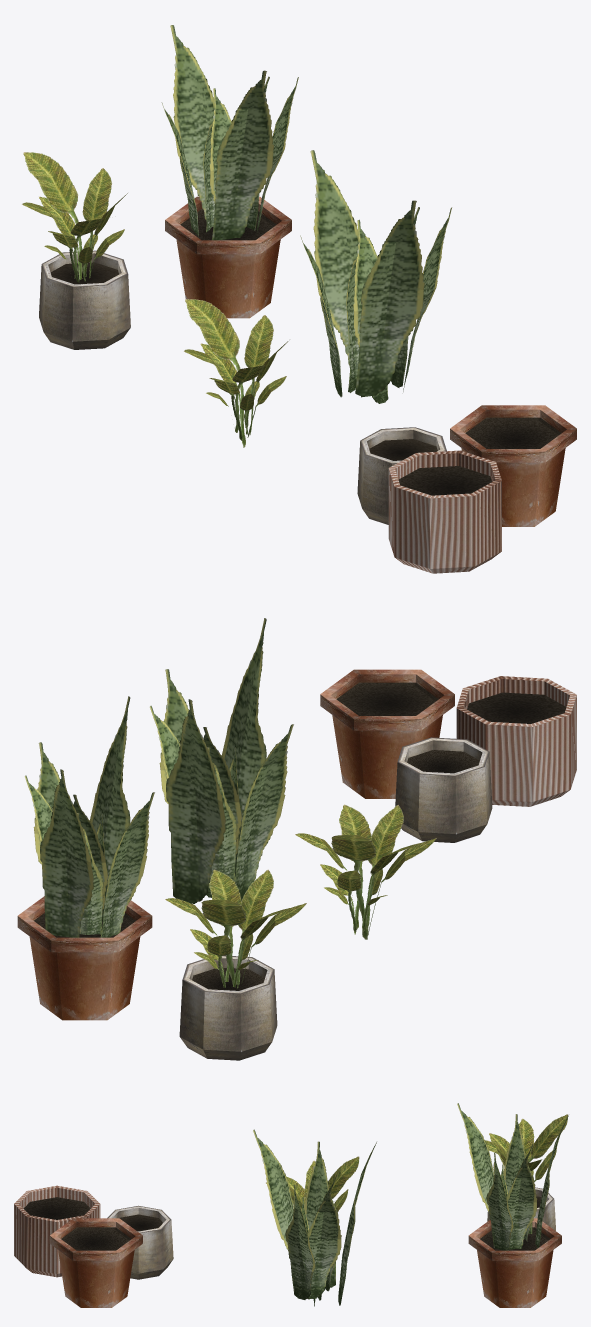
Rendered from plants.fbx.
3 views of the same model, one above another, from view 1: azimuth 30°, elevation 25°; view 2: azimuth 150°, elevation 25°; view 3: azimuth 270°, elevation 25° (orthographic). The views are drawn at different scales.
Parts seen in each view (by area): view 1: sanseveria, sanseveria.001, pot2, pot, pot.001, pot3.001, calathea, calathea.001, pot3; view 2: sanseveria, sanseveria.001, pot2, pot, pot.001, pot3, pot3.001, calathea, calathea.001; view 3: sanseveria, pot, sanseveria.001, pot.001, pot2, pot3, calathea.001, calathea, pot3.001.
Part boxes in pixels (bbox=[...]): sanseveria: bbox=[300, 150, 452, 403]; sanseveria.001: bbox=[161, 25, 298, 240]; pot2: bbox=[388, 450, 501, 573]; pot: bbox=[450, 405, 576, 526]; pot.001: bbox=[165, 196, 291, 318]; pot3.001: bbox=[39, 250, 130, 349]; calathea: bbox=[184, 299, 288, 447]; calathea.001: bbox=[22, 152, 127, 282]; pot3: bbox=[357, 427, 446, 524]; sanseveria: bbox=[149, 618, 293, 903]; sanseveria.001: bbox=[24, 696, 154, 937]; pot2: bbox=[456, 676, 576, 806]; pot: bbox=[320, 669, 454, 798]; pot.001: bbox=[17, 896, 152, 1020]; pot3: bbox=[395, 737, 492, 842]; pot3.001: bbox=[179, 955, 277, 1060]; calathea: bbox=[295, 804, 436, 939]; calathea.001: bbox=[165, 869, 306, 988]; sanseveria: bbox=[253, 1129, 376, 1306]; pot: bbox=[49, 1218, 142, 1307]; sanseveria.001: bbox=[457, 1103, 568, 1250]; pot.001: bbox=[468, 1218, 561, 1307]; pot2: bbox=[14, 1185, 100, 1277]; pot3: bbox=[107, 1205, 173, 1279]; calathea.001: bbox=[485, 1114, 567, 1189]; calathea: bbox=[266, 1156, 359, 1212]; pot3.001: bbox=[487, 1187, 555, 1230].
Bounding box in the file's own units: 126 × 114 × 286.
3 materials, 3 textured.
